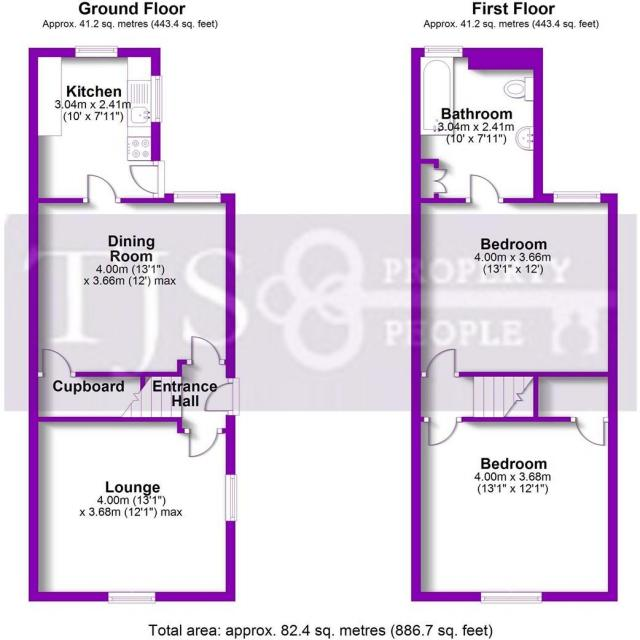DOOR: (203, 378, 239, 416), (129, 161, 165, 198), (421, 346, 460, 378), (82, 173, 121, 203), (466, 172, 503, 203), (184, 429, 222, 459), (424, 417, 462, 447), (187, 335, 224, 365), (38, 347, 75, 377), (571, 417, 608, 447)
ROOM: (410, 169, 618, 377), (28, 169, 236, 376), (410, 416, 618, 602), (29, 421, 236, 604), (29, 45, 165, 203)
WINDOW: (478, 590, 543, 606), (106, 590, 157, 606), (224, 473, 240, 523), (149, 74, 163, 124), (171, 191, 222, 204), (552, 191, 601, 204), (73, 45, 118, 59), (423, 45, 464, 58)
